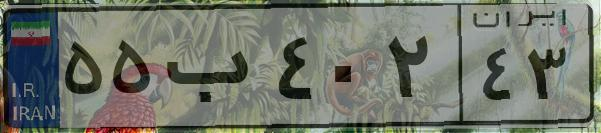0: (330, 28, 385, 110)
2: (385, 28, 445, 110)
3: (525, 38, 570, 115)
4: (270, 28, 330, 110), (475, 38, 525, 113)
5: (57, 26, 110, 100), (110, 28, 158, 98)
ب: (158, 20, 270, 120)
